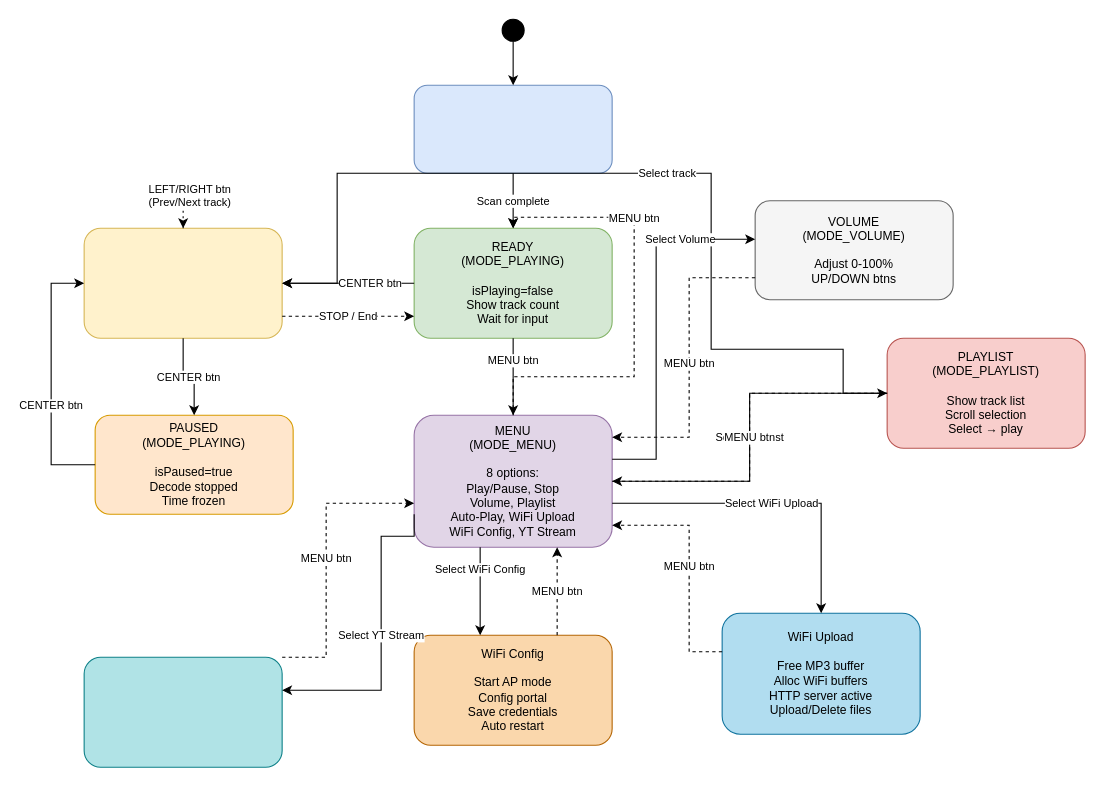
The diagram is 1104 pixels wide and 787 high, and some of its shapes have lost their labels. Each missing label, with the centre of its shape:
BOOT/INIT - Init hardware - Scan MP3 files - Load WiFi config: the point at 512,128
PLAYING (MODE_PLAYING) MP3 decode loop I2S output Progress display: the point at 182,282
YouTube Streaming WiFi STA mode UDP socket:5004 Opus decoder I2S @48kHz: the point at 182,711
